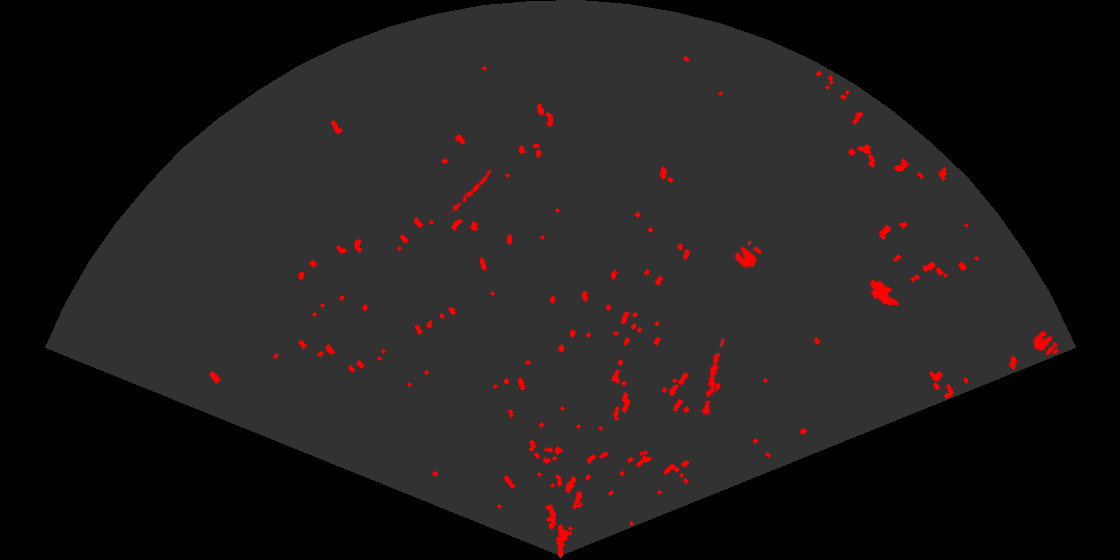AUV: (868, 278, 901, 308)
ball: (733, 239, 763, 269), (1031, 329, 1059, 357)
chain: (447, 166, 497, 219), (700, 336, 726, 416)
